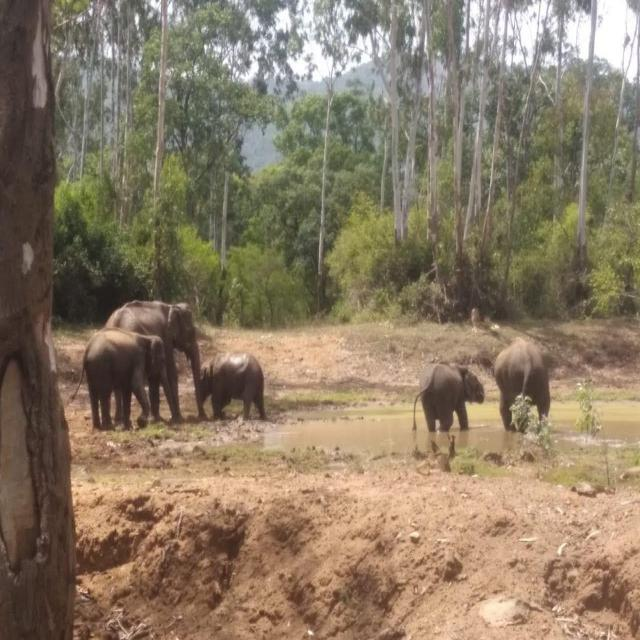Elephant: (106, 302, 204, 421), (82, 331, 172, 429), (493, 340, 551, 430), (416, 360, 485, 432), (198, 350, 266, 422)
